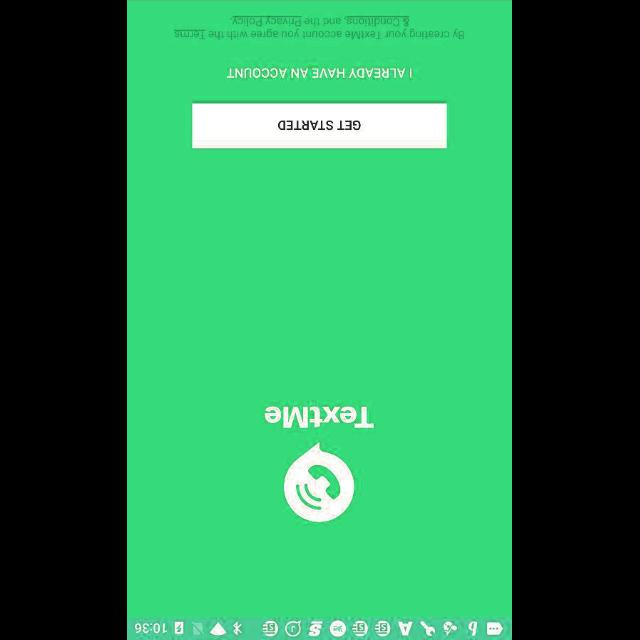image: (284, 440, 356, 522)
text: (174, 15, 464, 40), (264, 405, 376, 429), (227, 68, 413, 78)
textbutton: (192, 103, 448, 149)
uppertaskbar: (128, 617, 512, 639)
